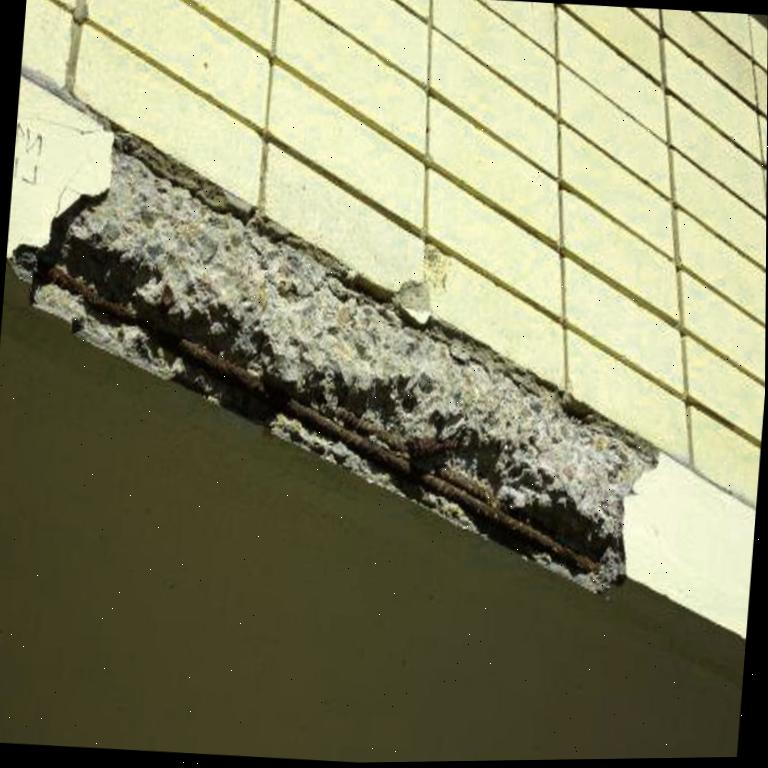exposed_rebar: (173, 337, 597, 571), (47, 267, 166, 339)
spalling: (12, 131, 656, 589)
